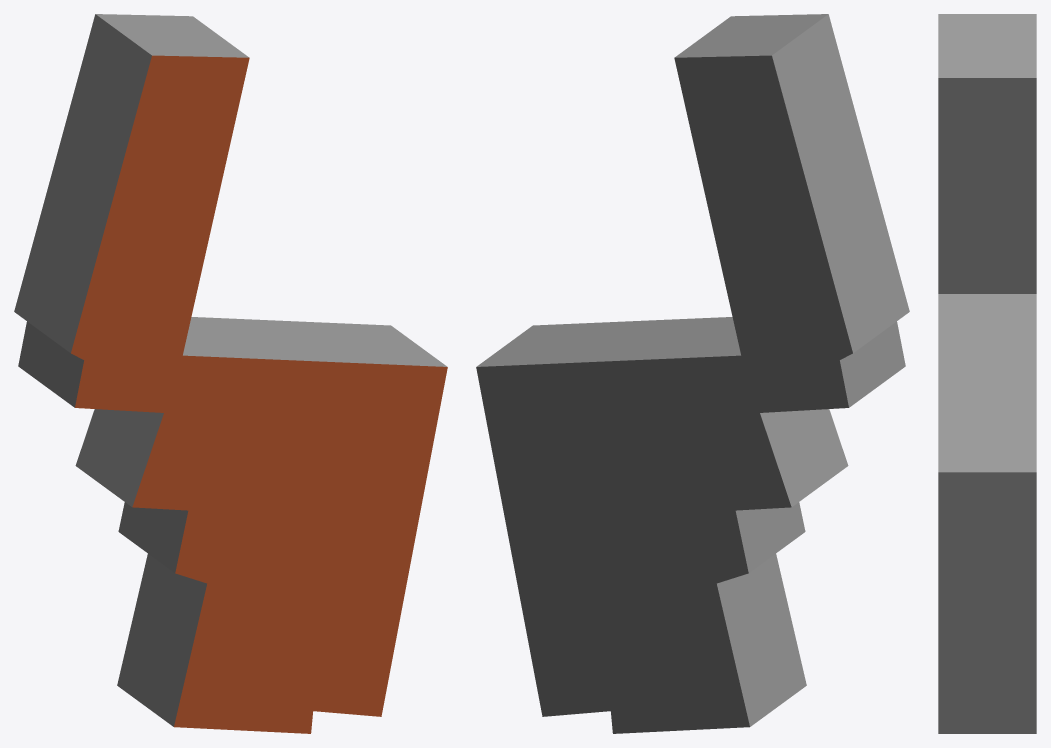
Rendered from construction_5564_assumed_A_Casa_h6m.obj.
3 views of the same model, side by side, from view 1: azimuth 30°, elevation 25°; view 2: azimuth 150°, elevation 25°; view 3: azimuth 270°, elevation 25° (orthographic). The views are drawn at different scales.
Parts seen in each view (by area): view 1: construction_5564_assumed_A_Casa; view 2: construction_5564_assumed_A_Casa; view 3: construction_5564_assumed_A_Casa.
Boxes of the visible parts, x1,y1,x2,y2 form: construction_5564_assumed_A_Casa: (14,14,447,733); construction_5564_assumed_A_Casa: (476,14,909,733); construction_5564_assumed_A_Casa: (938,14,1036,733).
Bounding box in the file's own units: 23.01 × 41.84 × 6.
